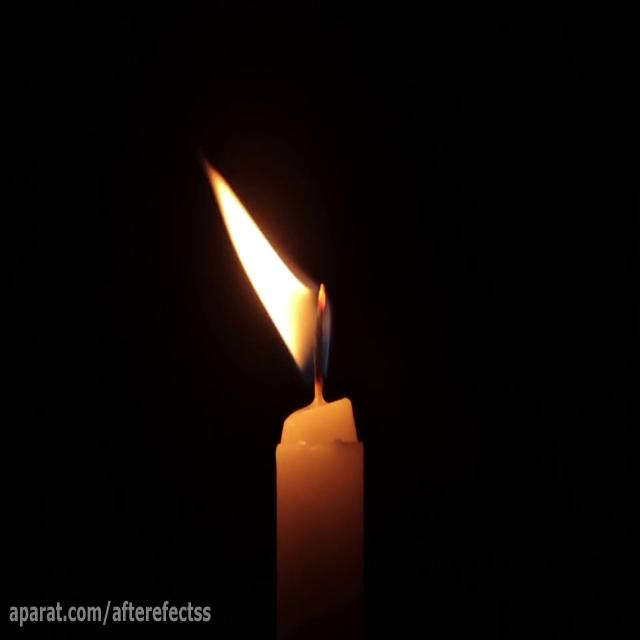fire: (206, 164, 333, 380)
